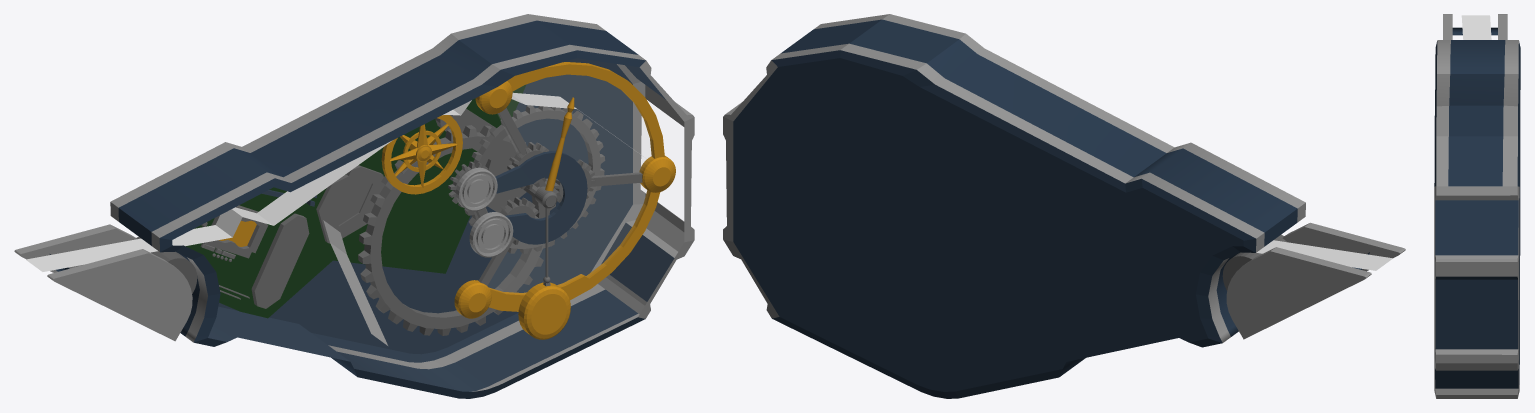
The picture shows the model from 3 angles, left to right: view 1: azimuth 30°, elevation 25°; view 2: azimuth 150°, elevation 25°; view 3: azimuth 270°, elevation 25°; orthographic projection. The views are drawn at different scales.
Visible parts, largest first — view 1: body, Plane, tape, Cylinder.025, Cube.022, Cylinder.021, Cylinder.016, Cylinder.017, enginge, error, Cylinder.028, Cube.023 (+10 smaller); view 2: body, Cube.023, Cube.022, tape, Cylinder.039; view 3: body, tape, Cube.022, Cube.023, Cylinder.038.
Part boxes in pixels (left/top/right/bottom): body: left=110, top=14, right=694, bottom=398; Plane: left=185, top=84, right=526, bottom=318; tape: left=26, top=92, right=643, bottom=345; Cylinder.025: left=358, top=125, right=555, bottom=335; Cube.022: left=47, top=249, right=192, bottom=341; Cylinder.021: left=489, top=62, right=664, bottom=311; Cylinder.016: left=495, top=151, right=587, bottom=244; Cylinder.017: left=464, top=105, right=605, bottom=253; enginge: left=316, top=165, right=384, bottom=243; error: left=251, top=213, right=309, bottom=308; Cylinder.028: left=518, top=282, right=570, bottom=339; Cube.023: left=14, top=224, right=136, bottom=272; body: left=723, top=14, right=1305, bottom=398; Cube.023: left=1226, top=247, right=1371, bottom=339; Cube.022: left=1282, top=222, right=1405, bottom=271; tape: left=1256, top=240, right=1392, bottom=270; Cylinder.039: left=1222, top=234, right=1286, bottom=290; body: left=1434, top=40, right=1520, bottom=398; tape: left=1461, top=15, right=1491, bottom=39; Cube.022: left=1443, top=14, right=1452, bottom=39; Cube.023: left=1498, top=14, right=1507, bottom=39; Cylinder.038: left=1452, top=27, right=1497, bottom=35.
Size of the model in its own units: 7.24 by 3.51 by 1.03.
